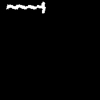half_double_crochet: (7, 2, 45, 12)
